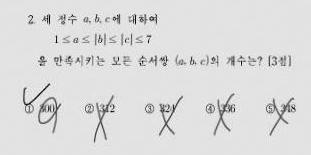choice: (22, 94, 36, 114)
not-choice: (204, 102, 216, 114), (83, 103, 95, 114), (144, 103, 155, 114), (264, 103, 275, 114)
